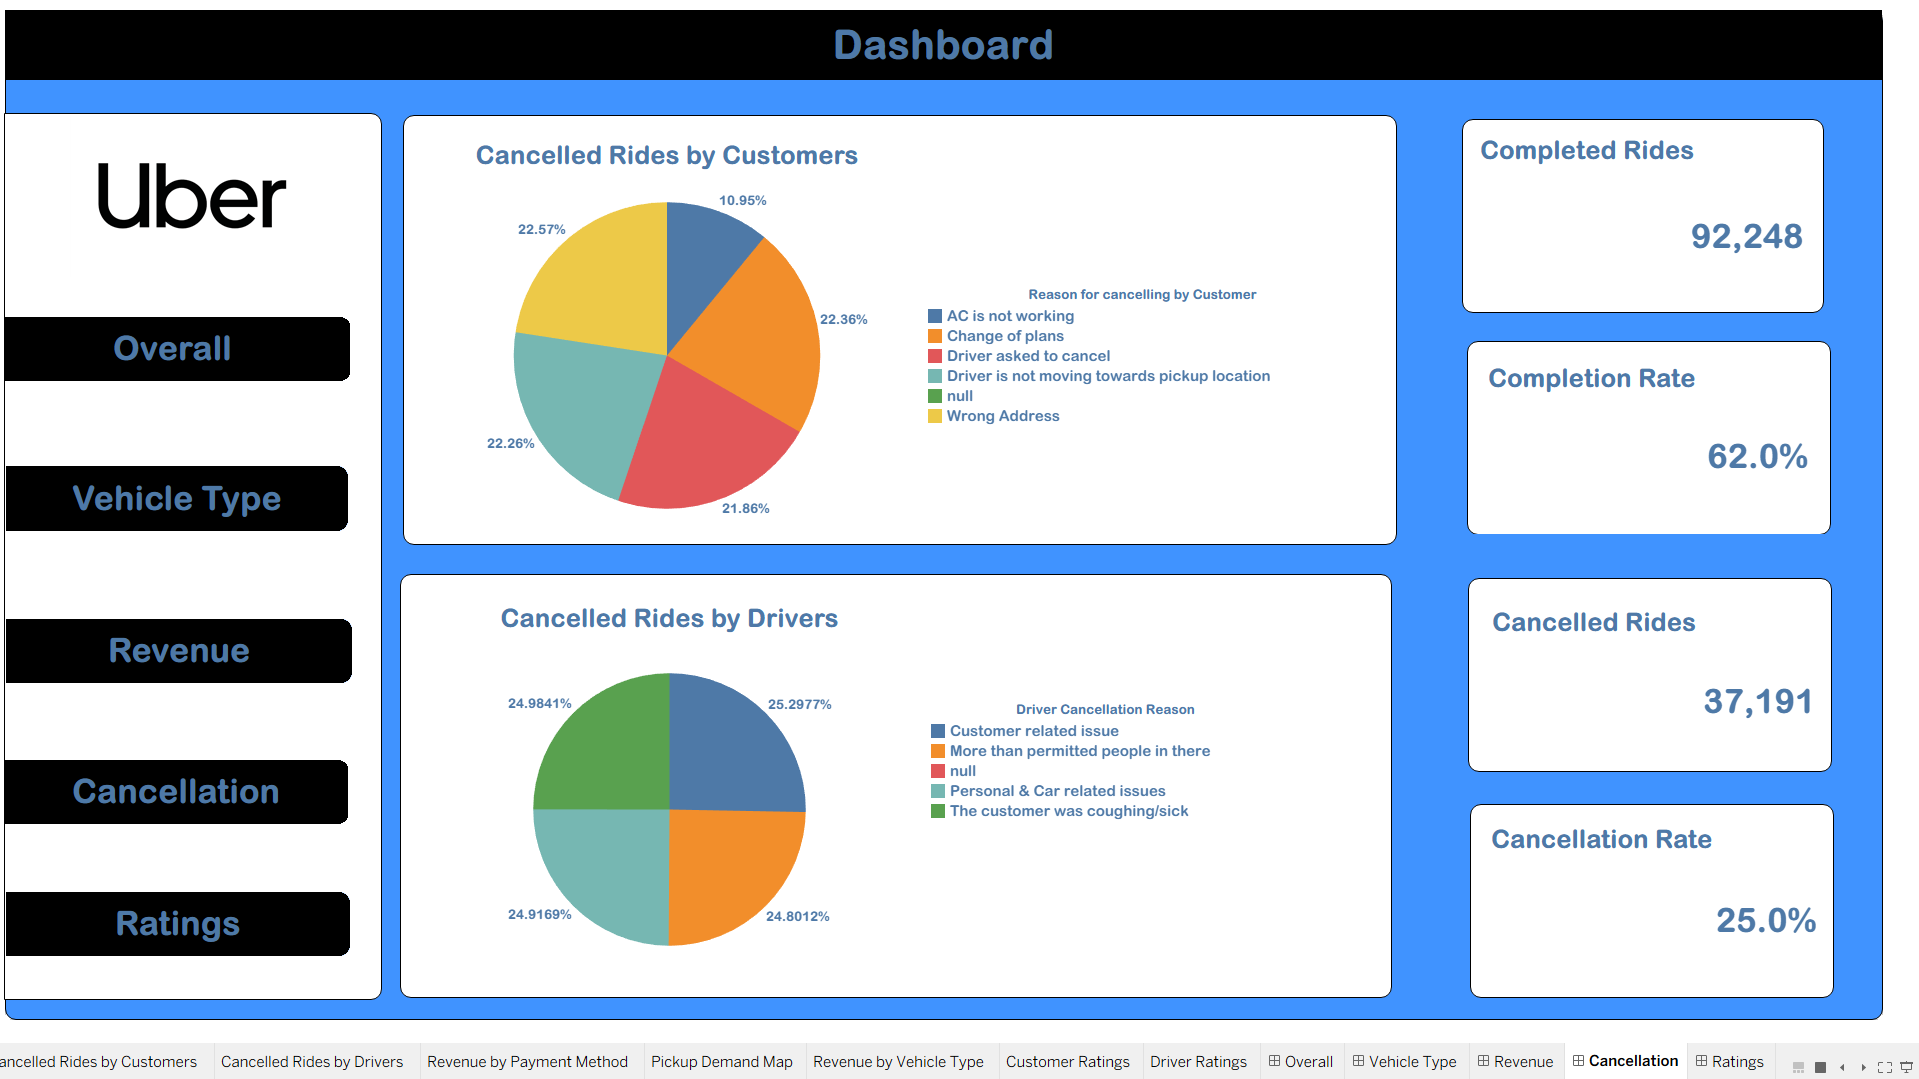

The dashboard page shown, as its layout file describes it:
{"tool":"tableau","page":{"name":"Cancellation","canvas":[1000,1000],"units":"permille","ordinal":0},"visuals":[{"type":"text","box":[2.4,9.4,977.7,67]},{"type":"blank","box":[2.3,108.1,196.8,850.8]},{"type":"image","param":"Image/download.png","box":[2.3,109.3,196.2,156.3]},{"type":"blank","box":[210,110.5,517.8,412.5]},{"type":"blank","box":[761.6,114,188.3,185.7]},{"type":"worksheet","title":"KPI - Completed Rides","mark":"Automatic","box":[768.9,125.7,172.6,161]},{"type":"worksheet","title":"Cancelled Rides by Customers","mark":"Pie","box":[220.9,130.4,252.9,378.4]},{"type":"legend","title":"Cancelled Rides by Customers","param":"[federated.0lg7k9d1ug5kob1dznf3a0nvakxs].[none:Reason for cancelling by Customer","box":[481.6,275,226.3,163.3]},{"type":"dashboard-object","box":[2.3,304.4,180.4,61.1]},{"type":"blank","box":[764,326.7,189.5,185.7]},{"type":"worksheet","title":"KPI - Completion Rate","mark":"Automatic","box":[773.1,344.3,170.8,145.7]},{"type":"dashboard-object","box":[2.9,446.5,178.1,62.3]},{"type":"blank","box":[208.2,549.9,516.6,406.6]},{"type":"blank","box":[764.6,554.6,189.5,185.7]},{"type":"worksheet","title":"Cancelled Rides by Drivers","mark":"Pie","box":[219.7,574.6,257.7,361.9]},{"type":"worksheet","title":"KPI - Cancelled Rides","mark":"Automatic","box":[774.9,578.1,172.6,148.1]},{"type":"dashboard-object","box":[2.9,593.4,180.4,61.1]},{"type":"legend","title":"Cancelled Rides by Drivers","param":"[federated.0lg7k9d1ug5kob1dznf3a0nvakxs].[none:Driver Cancellation Reason:nk]","box":[483.4,673.3,184.7,139.8]},{"type":"dashboard-object","box":[2.3,728.6,179.3,61.1]},{"type":"blank","box":[765.8,770.9,189.5,185.7]},{"type":"worksheet","title":"KPI - Cancellation Rate","mark":"Automatic","box":[774.3,786.1,173.2,150.4]},{"type":"dashboard-object","box":[2.9,855.5,179.3,61.1]}]}

Visuals, with their boxes on the dashboard's canvas, which has no fixed pixel size, in thousandths of its width and height (x1, y1, x2, y2). These are canvas units, not pixel positions in the 1919x1079 screenshot, which may show the page scaled, cropped or inside an application window:
text: (x1=2, y1=9, x2=980, y2=76)
blank: (x1=2, y1=108, x2=199, y2=959)
image: (x1=2, y1=109, x2=198, y2=266)
blank: (x1=210, y1=110, x2=728, y2=523)
blank: (x1=762, y1=114, x2=950, y2=300)
"KPI - Completed Rides" worksheet: (x1=769, y1=126, x2=942, y2=287)
"Cancelled Rides by Customers" worksheet (Pie marks): (x1=221, y1=130, x2=474, y2=509)
"Cancelled Rides by Customers" legend: (x1=482, y1=275, x2=708, y2=438)
dashboard-object: (x1=2, y1=304, x2=183, y2=366)
blank: (x1=764, y1=327, x2=954, y2=512)
"KPI - Completion Rate" worksheet: (x1=773, y1=344, x2=944, y2=490)
dashboard-object: (x1=3, y1=446, x2=181, y2=509)
blank: (x1=208, y1=550, x2=725, y2=956)
blank: (x1=765, y1=555, x2=954, y2=740)
"Cancelled Rides by Drivers" worksheet (Pie marks): (x1=220, y1=575, x2=477, y2=936)
"KPI - Cancelled Rides" worksheet: (x1=775, y1=578, x2=948, y2=726)
dashboard-object: (x1=3, y1=593, x2=183, y2=654)
"Cancelled Rides by Drivers" legend: (x1=483, y1=673, x2=668, y2=813)
dashboard-object: (x1=2, y1=729, x2=182, y2=790)
blank: (x1=766, y1=771, x2=955, y2=957)
"KPI - Cancellation Rate" worksheet: (x1=774, y1=786, x2=948, y2=936)
dashboard-object: (x1=3, y1=856, x2=182, y2=917)
